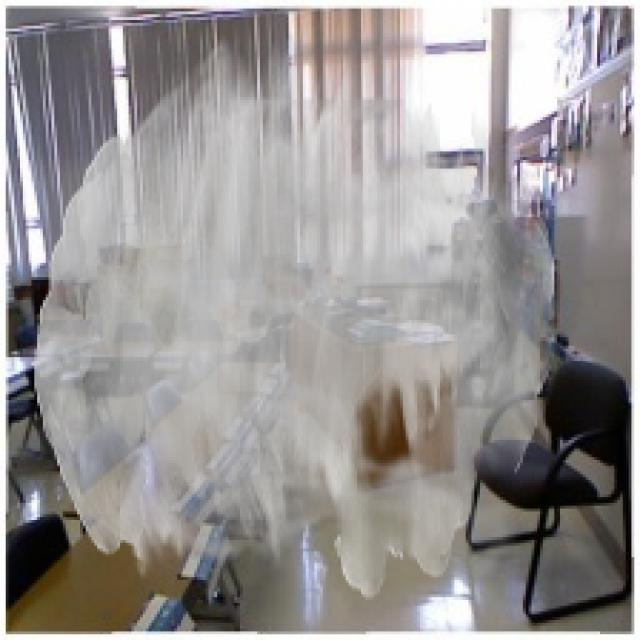smoke: (34, 31, 557, 600)
